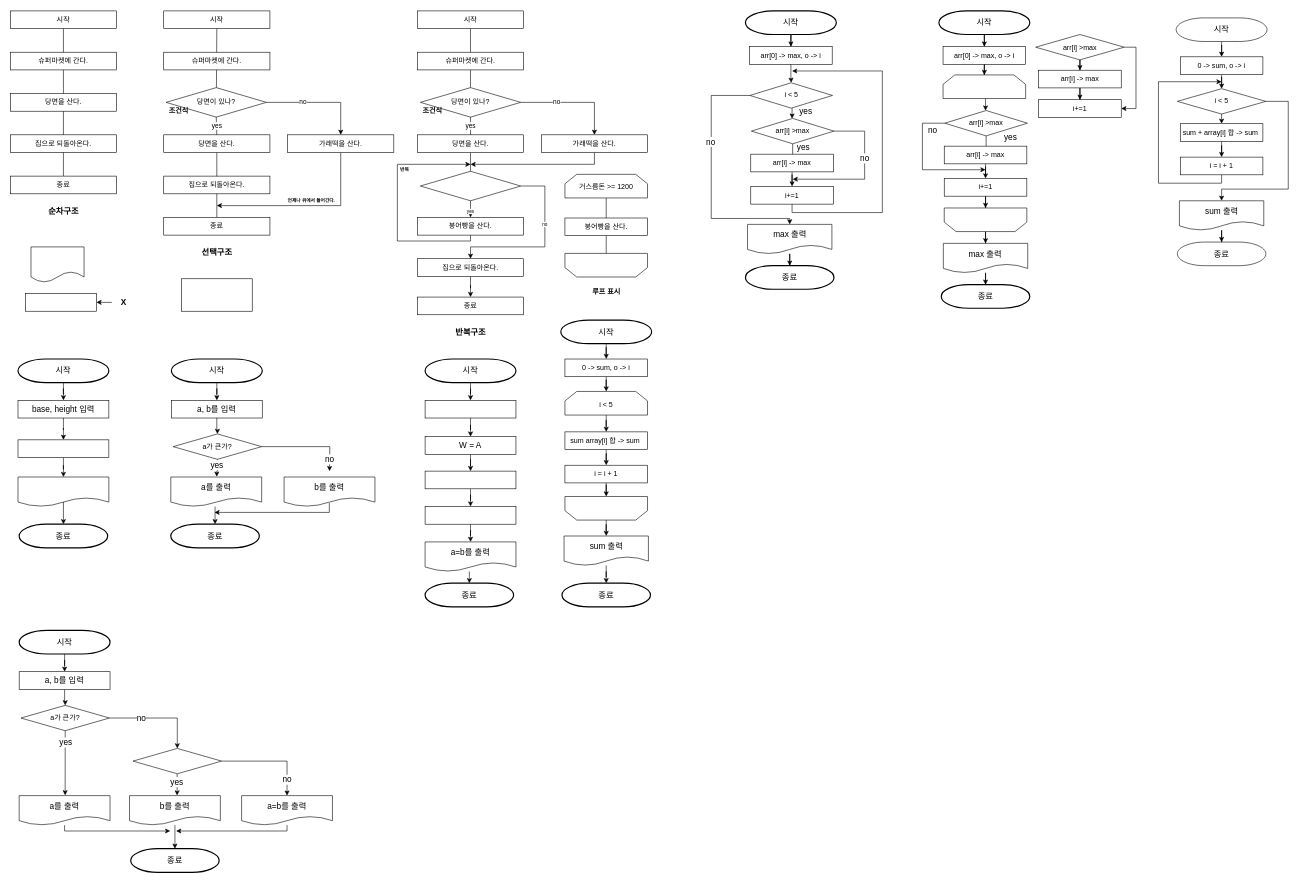
The diagram is 1303 pixels wide and 883 high, and some of its shapes have lost their labels. The box of each missing label's shape, as (x1, y1, x2, y2) in pixels:
12 → i i = 12;: (181, 278, 252, 311)
A = 11, B = 55: (425, 400, 516, 418)
A = B: (425, 471, 516, 489)
area 출력: (17, 476, 109, 507)
B = W: (425, 506, 516, 524)
base * height / 2 = area: (17, 439, 109, 458)
b가 큰가?: (132, 748, 222, 774)
i < arr.length: (942, 74, 1026, 99)
거스름돈 => 1200: (420, 171, 521, 201)
출력기호: (30, 246, 84, 282)
